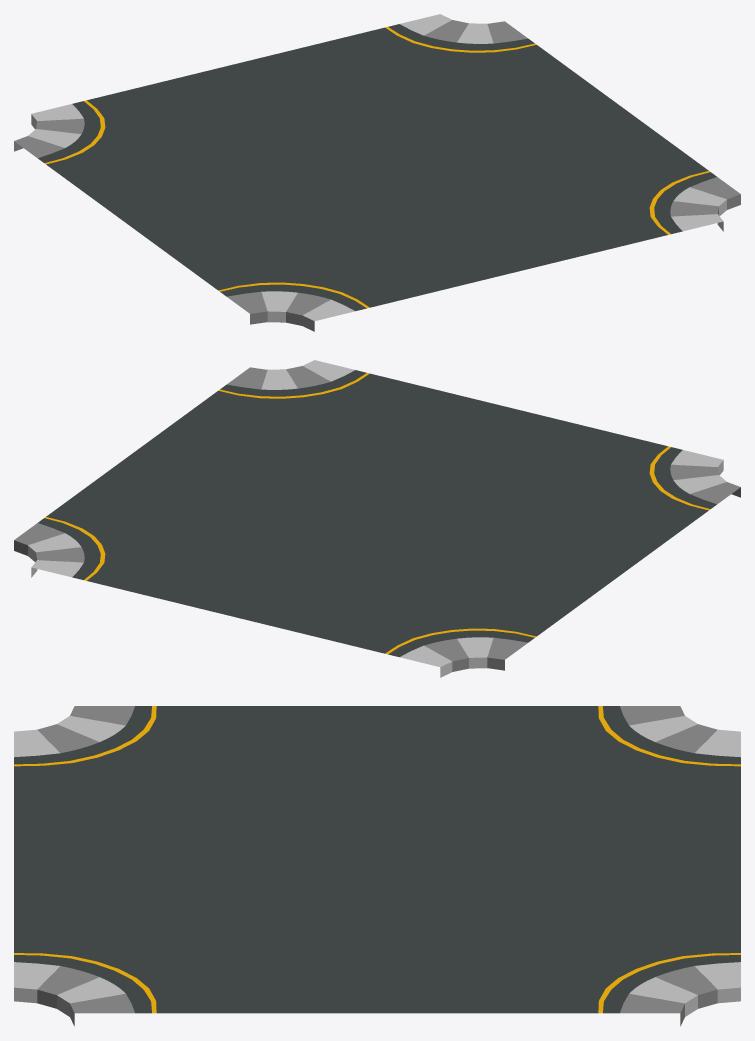
File: SM_Road_02_A.FBX
The picture shows the model from 3 angles, top to bottom: view 1: azimuth 30°, elevation 25°; view 2: azimuth 150°, elevation 25°; view 3: azimuth 270°, elevation 25°; orthographic projection. The views are drawn at different scales.
Parts seen in each view (by area): view 1: SM_Road_02_A; view 2: SM_Road_02_A; view 3: SM_Road_02_A.
Boxes of the visible parts, bbox=[...] form: SM_Road_02_A: bbox=[14, 14, 740, 331]; SM_Road_02_A: bbox=[14, 360, 740, 677]; SM_Road_02_A: bbox=[14, 706, 740, 1026].
Size of what is drawn, in the model's own units: 1200 by 1200 by 25.
